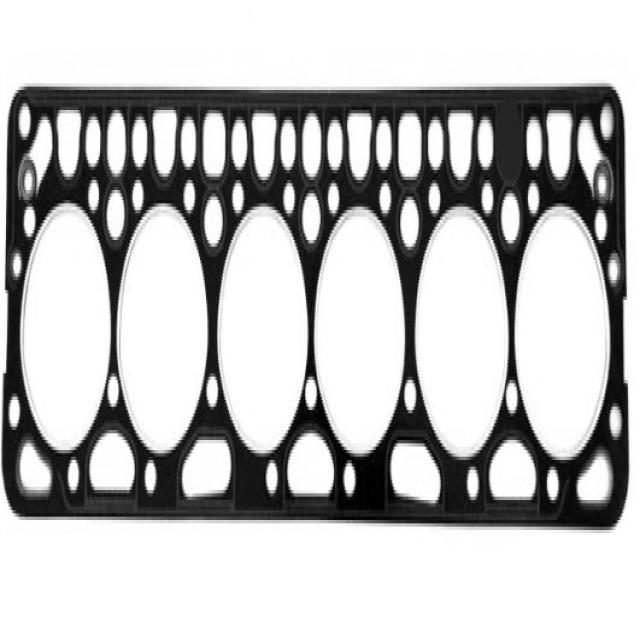missing hole: (496, 92, 530, 238)
